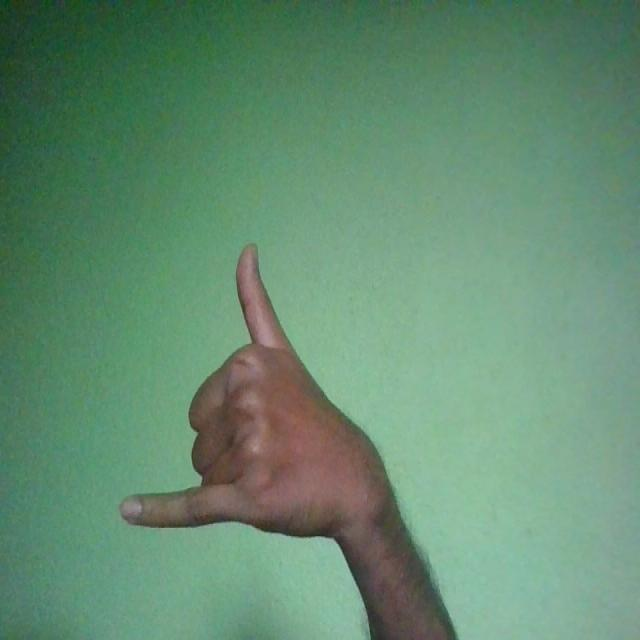Call Me: (120, 239, 398, 542)
